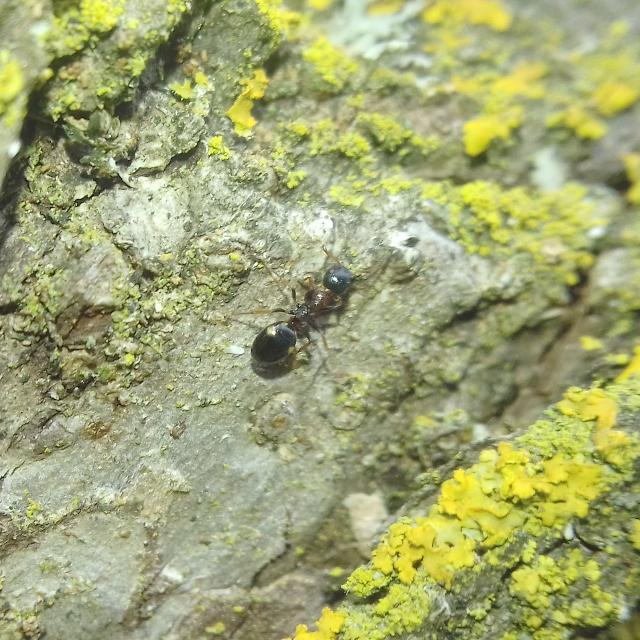Dolichoderus: (238, 230, 380, 378)
